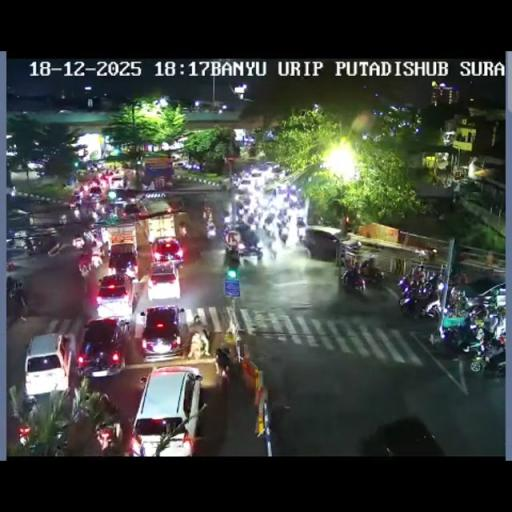Car: (128, 365, 202, 455), (76, 316, 129, 378), (23, 332, 71, 398), (139, 304, 188, 358), (95, 273, 135, 318), (146, 258, 184, 301), (222, 222, 262, 262), (301, 225, 342, 261), (107, 242, 139, 278), (232, 195, 254, 219), (120, 202, 144, 220), (258, 161, 282, 176), (295, 215, 308, 240), (86, 186, 104, 203), (108, 172, 126, 188), (238, 177, 254, 190), (26, 160, 44, 170), (250, 168, 262, 178), (174, 160, 188, 168)
Motorcycle: (398, 270, 442, 318), (441, 313, 481, 353), (262, 400, 292, 453), (26, 423, 62, 456), (479, 338, 506, 378), (215, 343, 240, 384), (94, 417, 122, 453), (7, 279, 28, 324), (342, 264, 367, 294), (188, 326, 210, 358), (448, 285, 469, 315), (467, 302, 490, 326), (82, 228, 104, 250), (78, 252, 94, 278), (450, 268, 469, 286), (285, 190, 302, 210), (90, 247, 104, 270), (22, 393, 38, 413), (116, 318, 130, 340), (411, 264, 426, 284), (18, 424, 30, 447), (178, 222, 188, 249), (25, 237, 38, 255), (71, 234, 85, 249), (340, 250, 350, 269), (417, 248, 429, 262), (90, 208, 100, 222), (206, 226, 216, 240), (73, 206, 81, 220)
